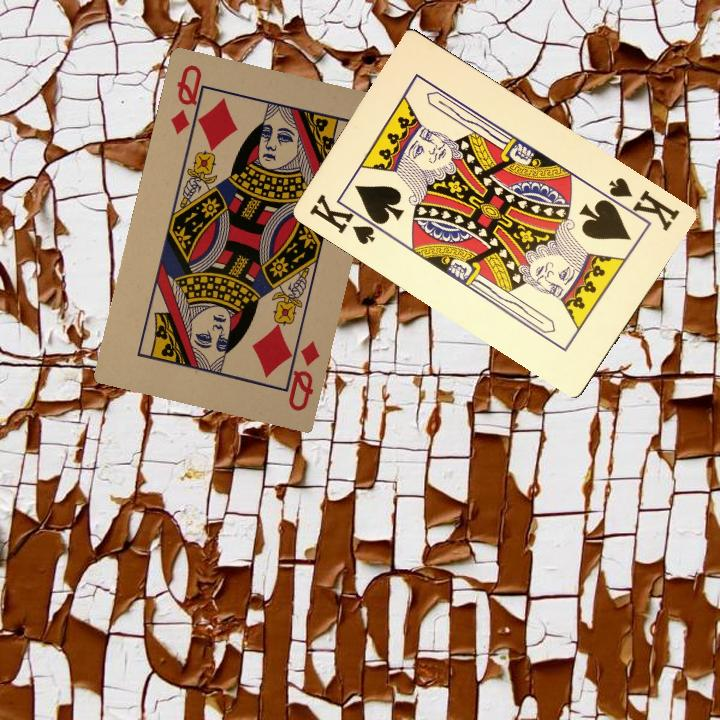Ks: (600, 173, 682, 234), (305, 190, 387, 248)
Qd: (276, 334, 322, 414), (166, 60, 207, 145)
